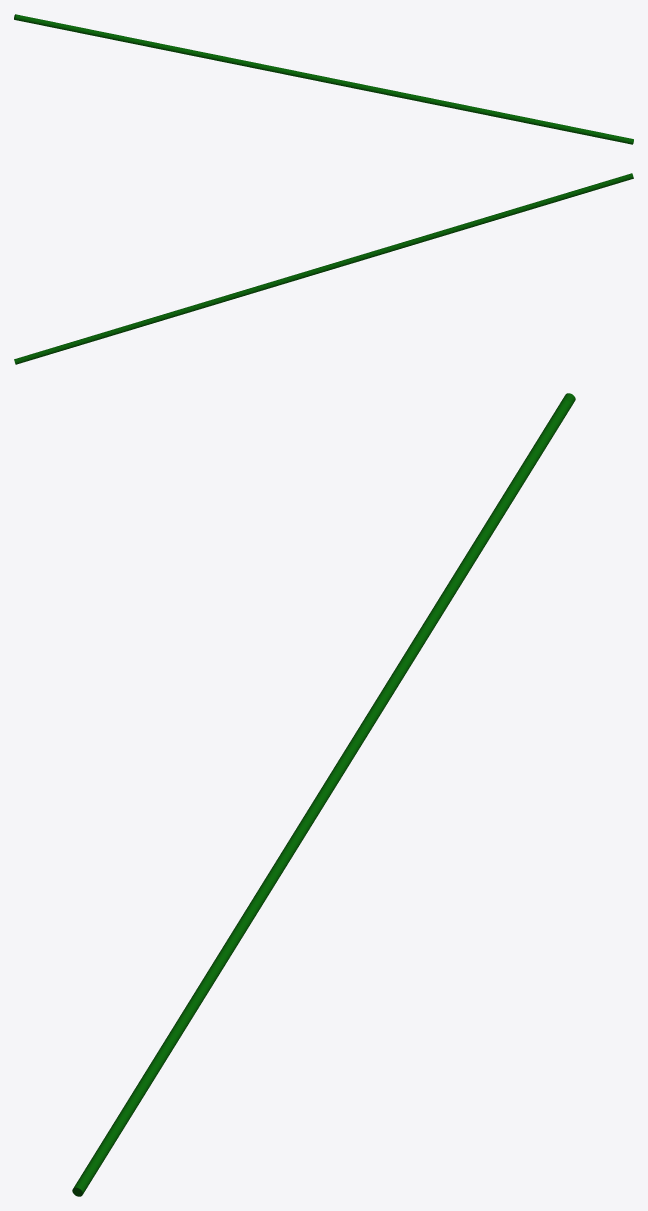
The model's file is Event_421278790_jet_0.fbx.
The picture shows the model from 3 angles, top to bottom: view 1: azimuth 30°, elevation 25°; view 2: azimuth 210°, elevation 25°; view 3: azimuth 270°, elevation 25°; orthographic projection. The views are drawn at different scales.
Parts seen in each view (by area): view 1: Model; view 2: Model; view 3: Model.
Boxes of the visible parts, x1,y1,x2,y2 form: Model: (14,14,633,144); Model: (14,173,633,364); Model: (72,393,575,1196).
Bounding box in the file's own units: 3.99 × 1.23 × 1.75.
